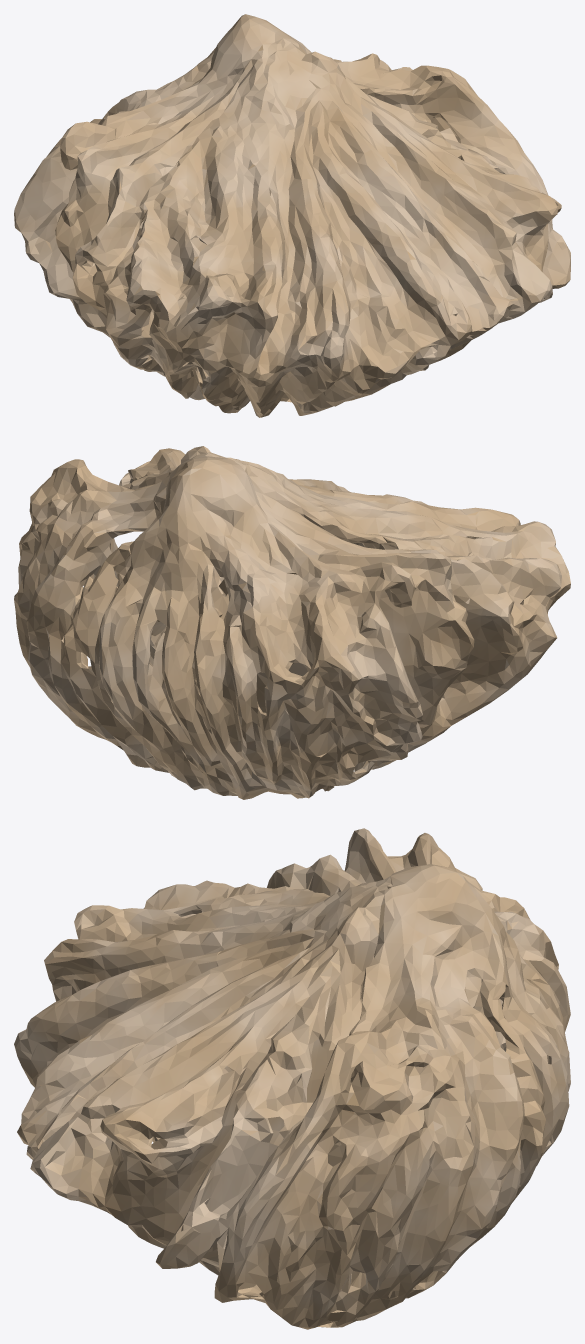
The picture shows the model from 3 angles, top to bottom: view 1: azimuth 30°, elevation 25°; view 2: azimuth 150°, elevation 25°; view 3: azimuth 270°, elevation 25°; orthographic projection. The views are drawn at different scales.
Parts seen in each view (by area): view 1: geometry_0; view 2: geometry_0; view 3: geometry_0.
Part boxes in pixels (x1,y1,x2,y2): geometry_0: (14, 14, 570, 417); geometry_0: (14, 446, 570, 799); geometry_0: (14, 828, 570, 1329).
Bounding box in the file's own units: 0.8638 × 0.5772 × 0.7445.
1 material, 1 textured.
